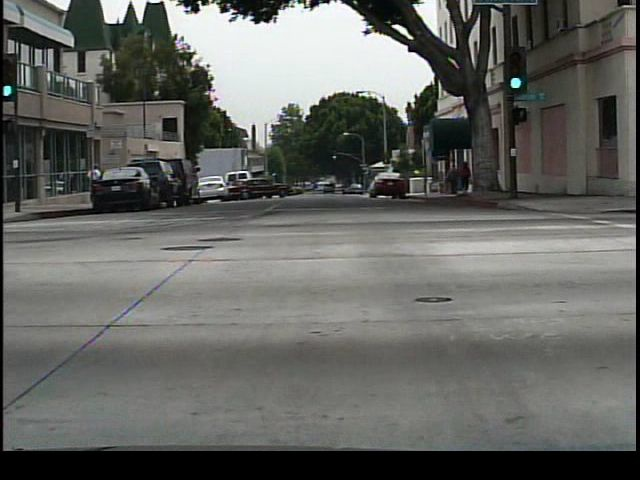person: (86, 158, 111, 205), (443, 164, 462, 198), (469, 156, 470, 196)
